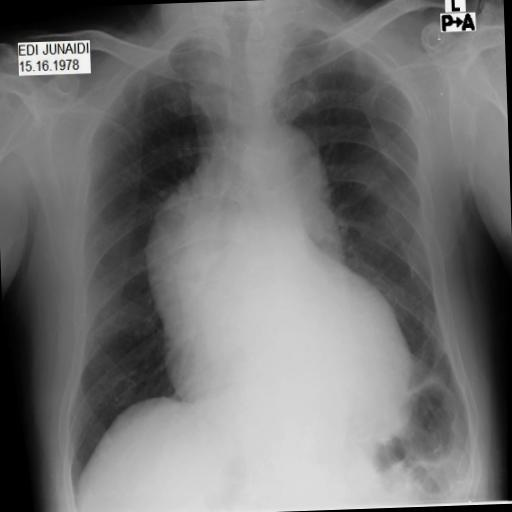kardiomegali: (46, 20, 490, 508)
